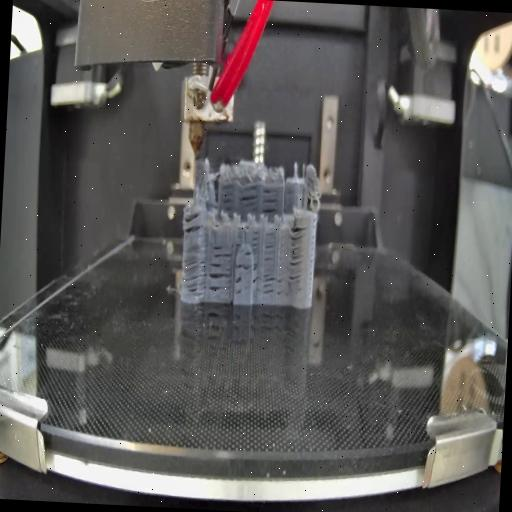cracks: (180, 246, 208, 294), (288, 222, 308, 289), (206, 262, 232, 299), (263, 269, 286, 297), (182, 208, 204, 234), (240, 183, 259, 210), (261, 186, 279, 214), (262, 232, 276, 262), (252, 262, 262, 296), (213, 244, 233, 260), (224, 186, 236, 212), (250, 229, 262, 249), (234, 225, 244, 248), (233, 276, 243, 296), (236, 262, 254, 272), (244, 250, 252, 256)
